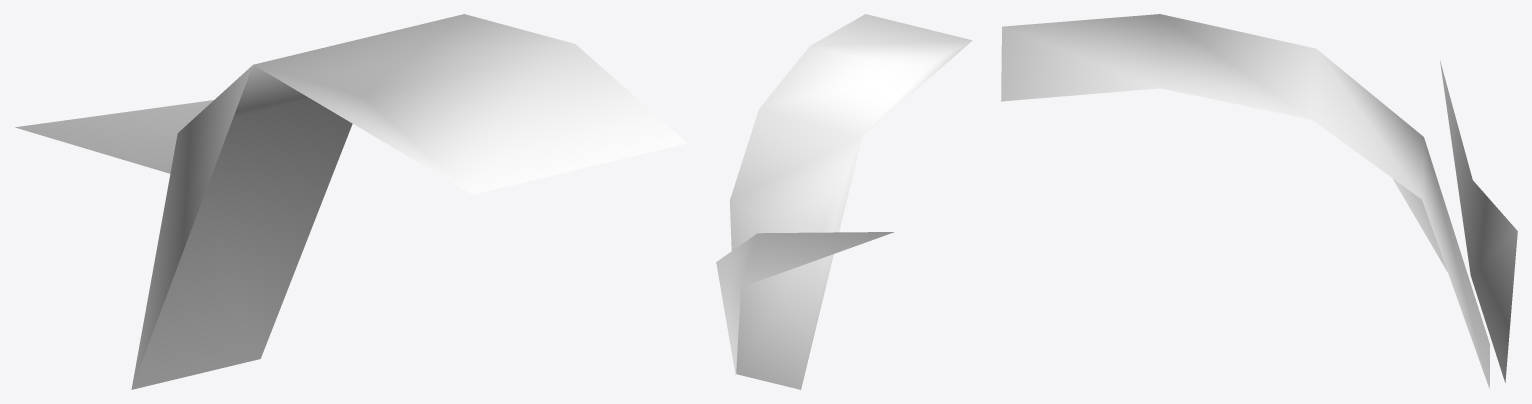
The picture shows the model from 3 angles, left to right: view 1: azimuth 30°, elevation 25°; view 2: azimuth 150°, elevation 25°; view 3: azimuth 270°, elevation 25°; orthographic projection. The views are drawn at different scales.
Size of the model in its own units: 0.3359 by 0.4056 by 0.5738.
1 material, 1 textured.
